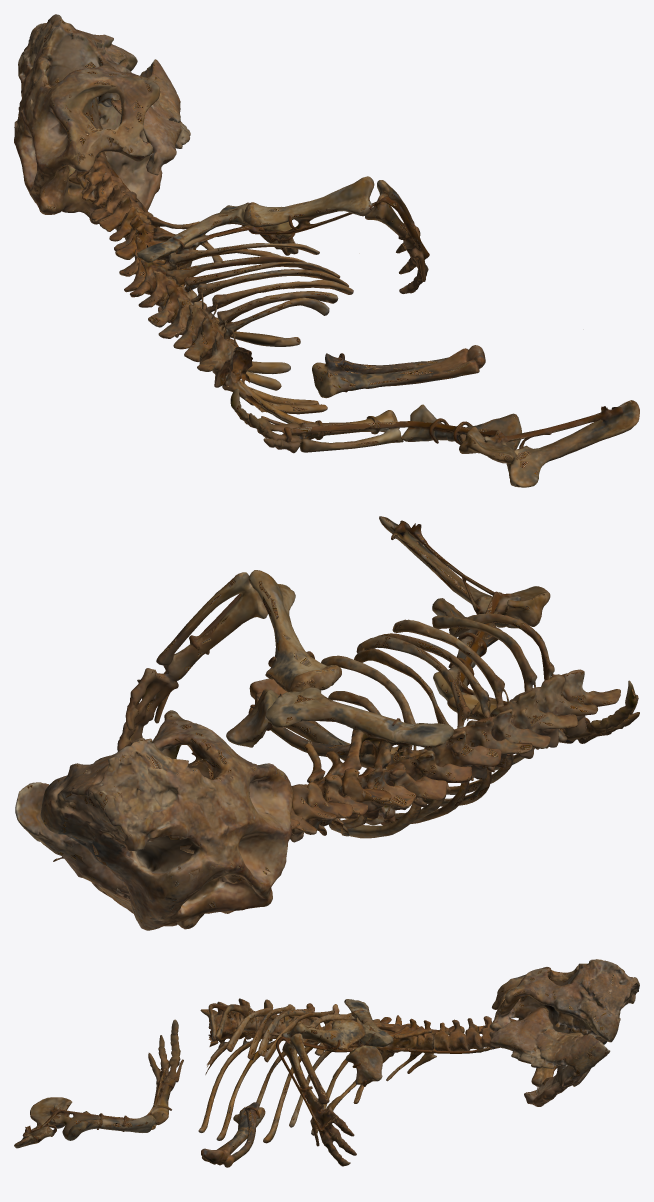
The model's file is Fossils2.fbx.
3 views of the same model, one above another, from view 1: azimuth 30°, elevation 25°; view 2: azimuth 150°, elevation 25°; view 3: azimuth 270°, elevation 25° (orthographic). The views are drawn at different scales.
Parts seen in each view (by area): view 1: Fossils2; view 2: Fossils2; view 3: Fossils2.
Part boxes in pixels (<box>): Fossils2: <box>14,14,639,487</box>; Fossils2: <box>15,516,639,930</box>; Fossils2: <box>14,959,639,1167</box>.
Bounding box in the file's own units: 523 × 308 × 1010.
Materials: 1 (1 with a texture image).
